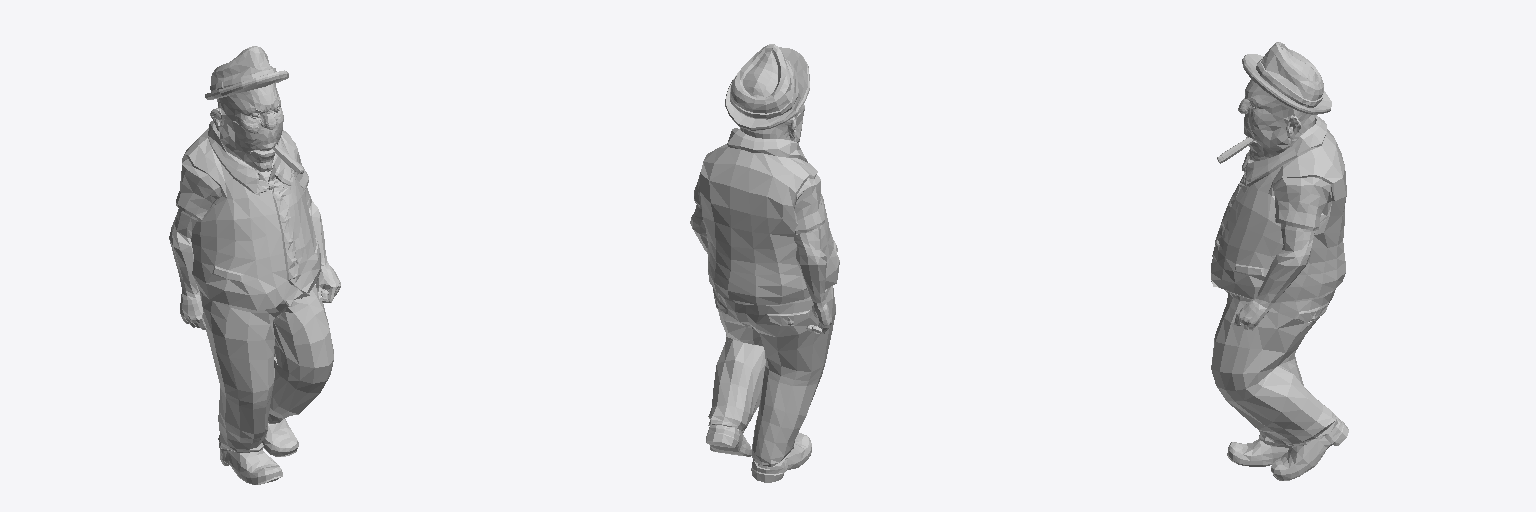
File: walk0001.obj
The picture shows the model from 3 angles: view 1: azimuth 30°, elevation 25°; view 2: azimuth 150°, elevation 25°; view 3: azimuth 270°, elevation 25°; orthographic projection.
Visible parts, largest first — view 1: mixamorig:Jacket_Geo, mixamorig:Pants_Geo, mixamorig:Head_Geo, mixamorig:Arms_Geo, mixamorig:Shoes_Geo, mixamorig:Hat_Geo; view 2: mixamorig:Jacket_Geo, mixamorig:Pants_Geo, mixamorig:Hat_Geo, mixamorig:Arms_Geo, mixamorig:Shoes_Geo, mixamorig:Head_Geo; view 3: mixamorig:Jacket_Geo, mixamorig:Pants_Geo, mixamorig:Hat_Geo, mixamorig:Head_Geo, mixamorig:Shoes_Geo, mixamorig:Arms_Geo.
Boxes of the visible parts, <box> form: mixamorig:Jacket_Geo: <box>176,121,320,310</box>; mixamorig:Pants_Geo: <box>200,285,333,452</box>; mixamorig:Head_Geo: <box>210,83,283,181</box>; mixamorig:Arms_Geo: <box>169,187,340,329</box>; mixamorig:Shoes_Geo: <box>220,419,298,484</box>; mixamorig:Hat_Geo: <box>205,46,288,99</box>; mixamorig:Jacket_Geo: <box>694,128,839,304</box>; mixamorig:Pants_Geo: <box>708,286,835,466</box>; mixamorig:Hat_Geo: <box>725,44,809,130</box>; mixamorig:Arms_Geo: <box>690,205,831,333</box>; mixamorig:Shoes_Geo: <box>706,424,811,482</box>; mixamorig:Head_Geo: <box>740,104,804,143</box>; mixamorig:Jacket_Geo: <box>1211,115,1346,302</box>; mixamorig:Pants_Geo: <box>1211,289,1337,447</box>; mixamorig:Hat_Geo: <box>1242,42,1331,114</box>; mixamorig:Head_Geo: <box>1238,79,1315,161</box>; mixamorig:Shoes_Geo: <box>1227,418,1348,480</box>; mixamorig:Arms_Geo: <box>1234,224,1314,330</box>.
Size of the model in its own units: 0.6842 by 1.97 by 0.588.